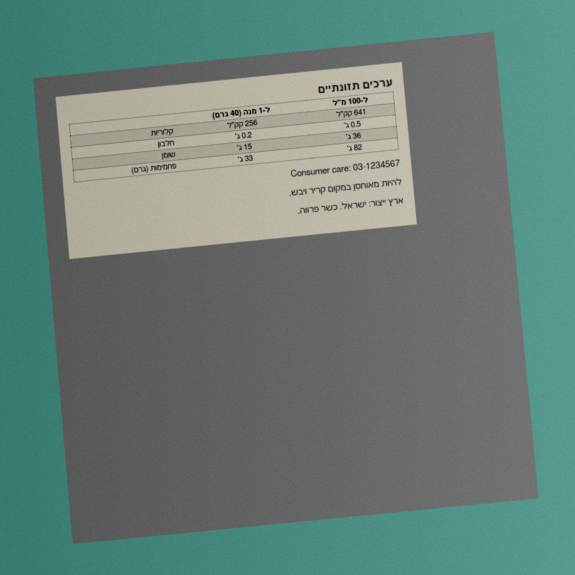carbs: (346, 142, 363, 154)
energy: (335, 107, 368, 120)
fat: (345, 131, 362, 142)
protein: (343, 119, 362, 130)
